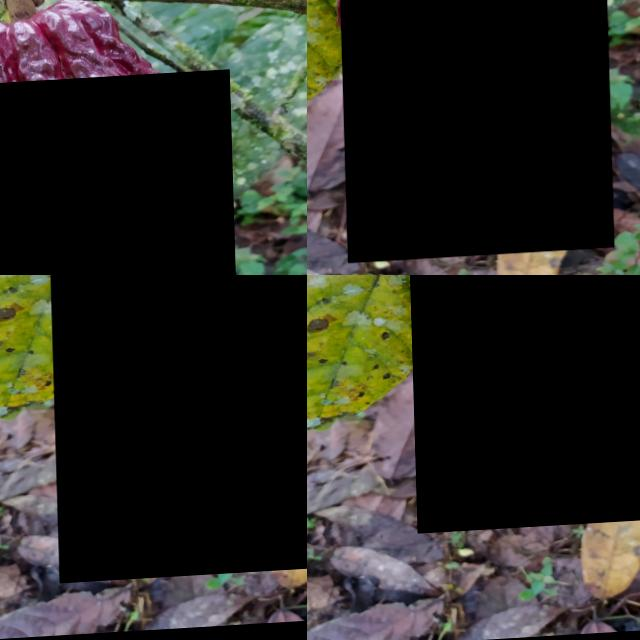Fitoftora: (45, 275, 307, 584)
Sana: (336, 0, 610, 265), (404, 275, 640, 535), (0, 75, 236, 275)
